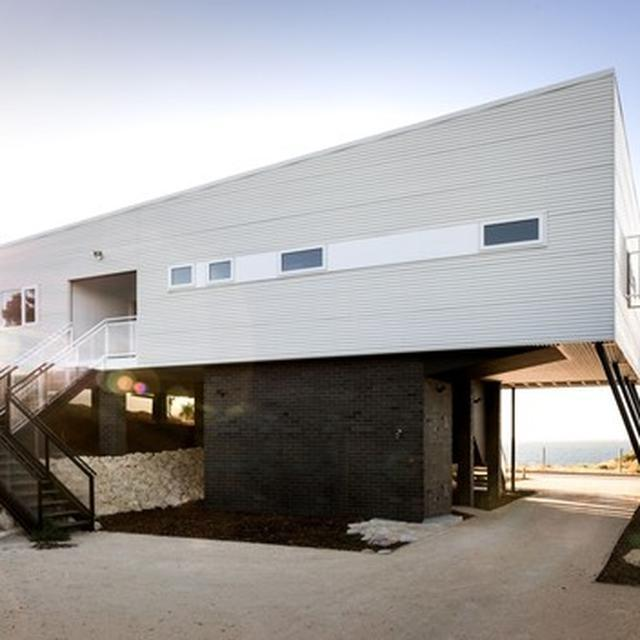building: (0, 68, 629, 513)
